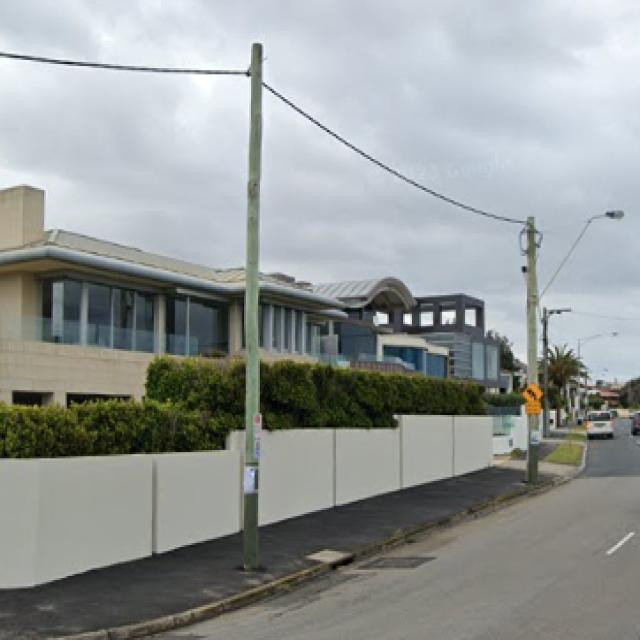crossarm: (545, 307, 573, 315)
streetlight: (538, 209, 625, 302)
timber-pole: (241, 42, 264, 570), (525, 215, 540, 485), (541, 306, 550, 440)
